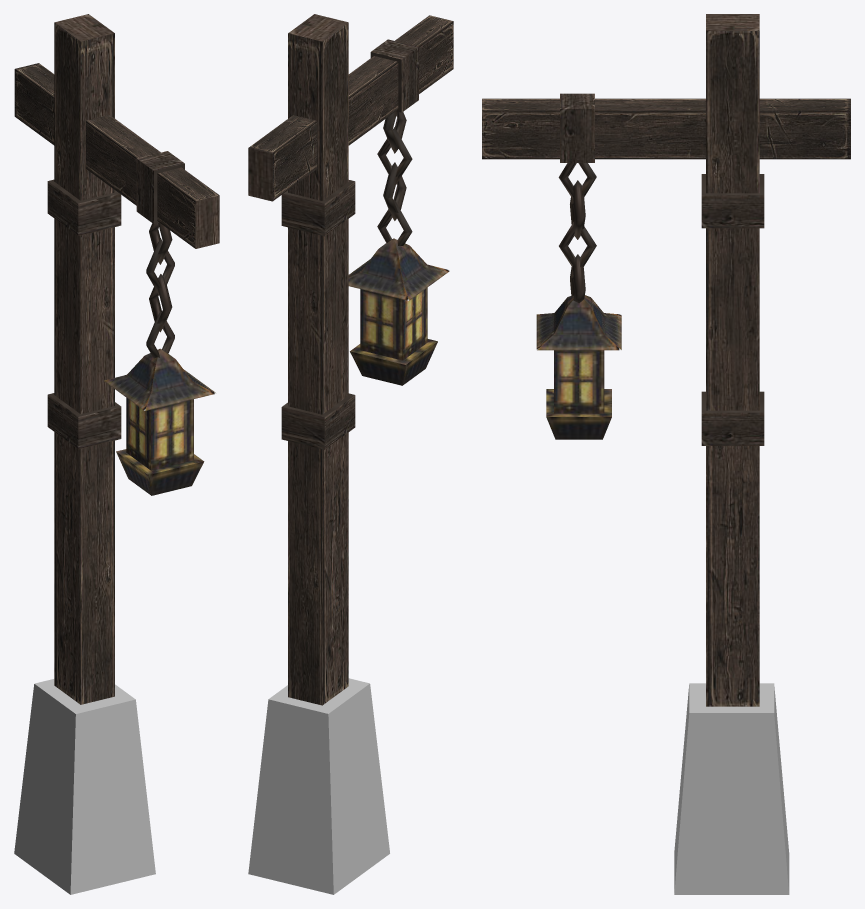
The model's file is light_wood.FBX.
3 views of the same model, side by side, from view 1: azimuth 30°, elevation 25°; view 2: azimuth 150°, elevation 25°; view 3: azimuth 270°, elevation 25° (orthographic).
Visible parts, largest first — view 1: 10004a_light01; view 2: 10004a_light01; view 3: 10004a_light01.
Part boxes in pixels (x1,y1,x2,y2): 10004a_light01: (14,14,219,894); 10004a_light01: (248,14,453,894); 10004a_light01: (482,14,850,894).
Bounding box in the file's own units: 0.3189 × 2.98 × 1.17.
